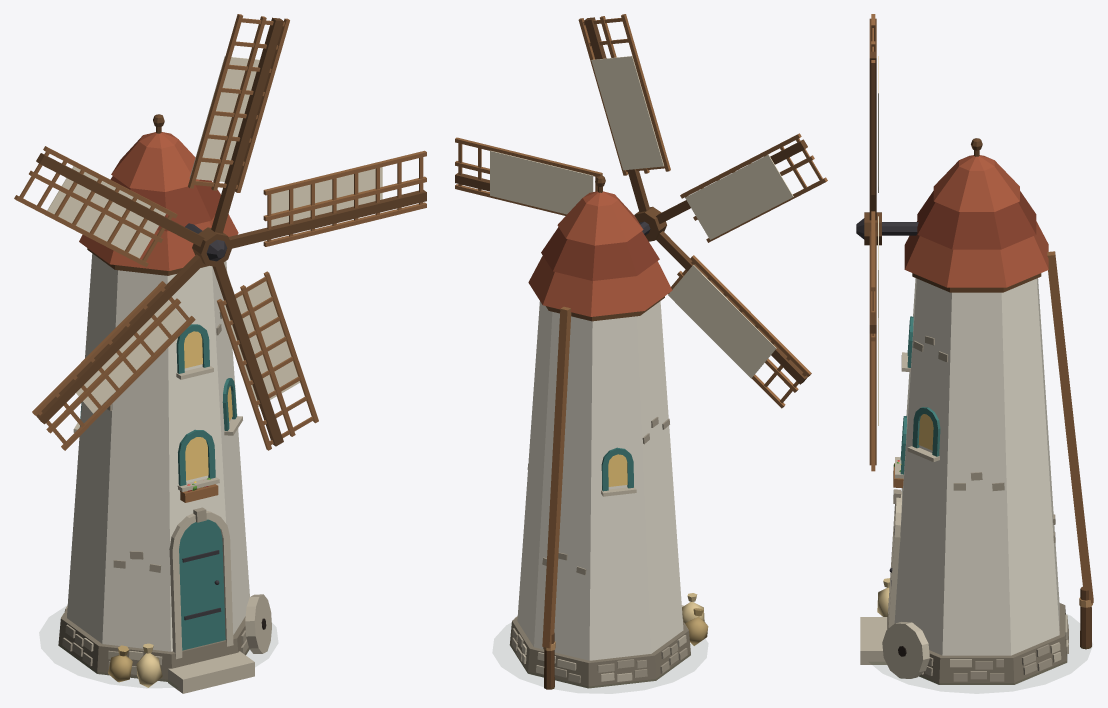
File: windmill.glb
3 renders of one model, left to right at view 1: azimuth 30°, elevation 25°; view 2: azimuth 150°, elevation 25°; view 3: azimuth 270°, elevation 25°, orthographic. The views are drawn at different scales.
Visible parts, largest first — view 1: windmill, sails; view 2: windmill, sails; view 3: windmill, sails.
Part boxes in pixels (x1,y1,x2,y2): windmill: (58,114,271,693); sails: (14,14,426,450); windmill: (509,175,708,689); sails: (455,14,827,408); windmill: (860,138,1093,684); sails: (856,14,881,471).
Size of the model in its own units: 5.71 by 8.77 by 2.95.
